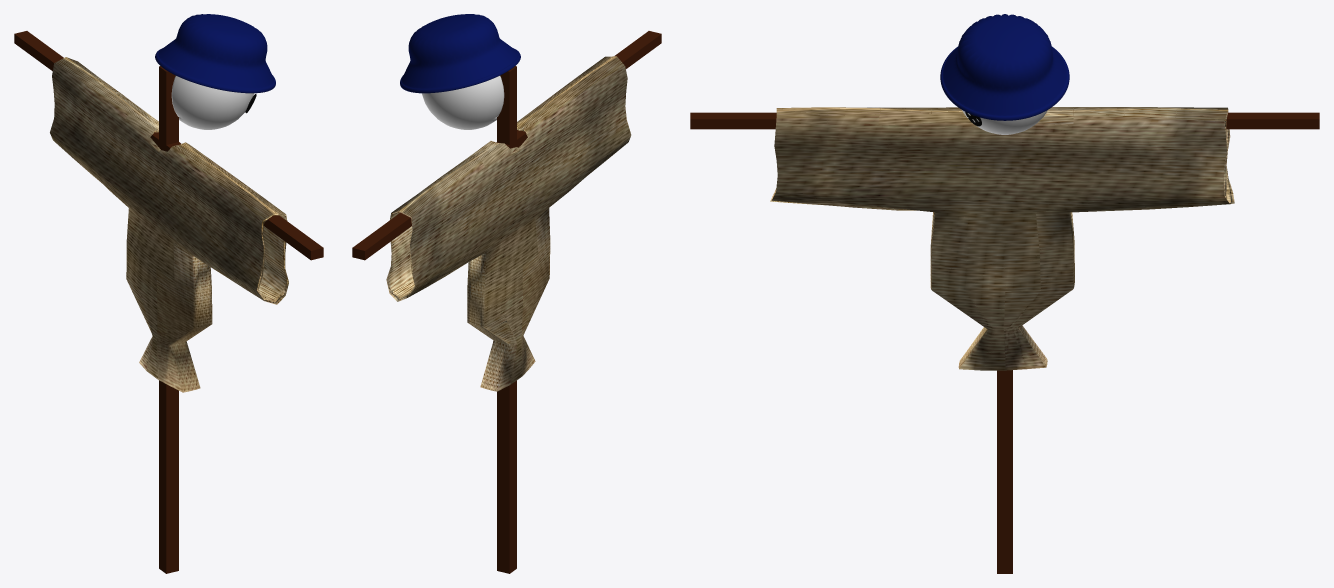
Rendered from espantalho.fbx.
3 renders of one model, left to right at view 1: azimuth 30°, elevation 25°; view 2: azimuth 150°, elevation 25°; view 3: azimuth 270°, elevation 25°, orthographic. The views are drawn at different scales.
Parts seen in each view (by area): view 1: roupa, haste, chapeu, cabeca; view 2: roupa, haste, chapeu, cabeca; view 3: roupa, chapeu, haste, cabeca.
Boxes of the visible parts, left/top/right/bottom form: roupa: left=50, top=57, right=288, bottom=392; haste: left=14, top=31, right=323, bottom=573; chapeu: left=155, top=14, right=275, bottom=93; cabeca: left=171, top=76, right=253, bottom=129; roupa: left=386, top=56, right=631, bottom=391; haste: left=352, top=31, right=661, bottom=573; chapeu: left=400, top=14, right=520, bottom=93; cabeca: left=422, top=76, right=504, bottom=129; roupa: left=770, top=107, right=1234, bottom=370; chapeu: left=940, top=14, right=1069, bottom=120; haste: left=690, top=112, right=1319, bottom=573; cabeca: left=962, top=110, right=1047, bottom=134.
Size of the model in its own units: 109 by 477 by 477.
Materials: 5 (1 with a texture image).
